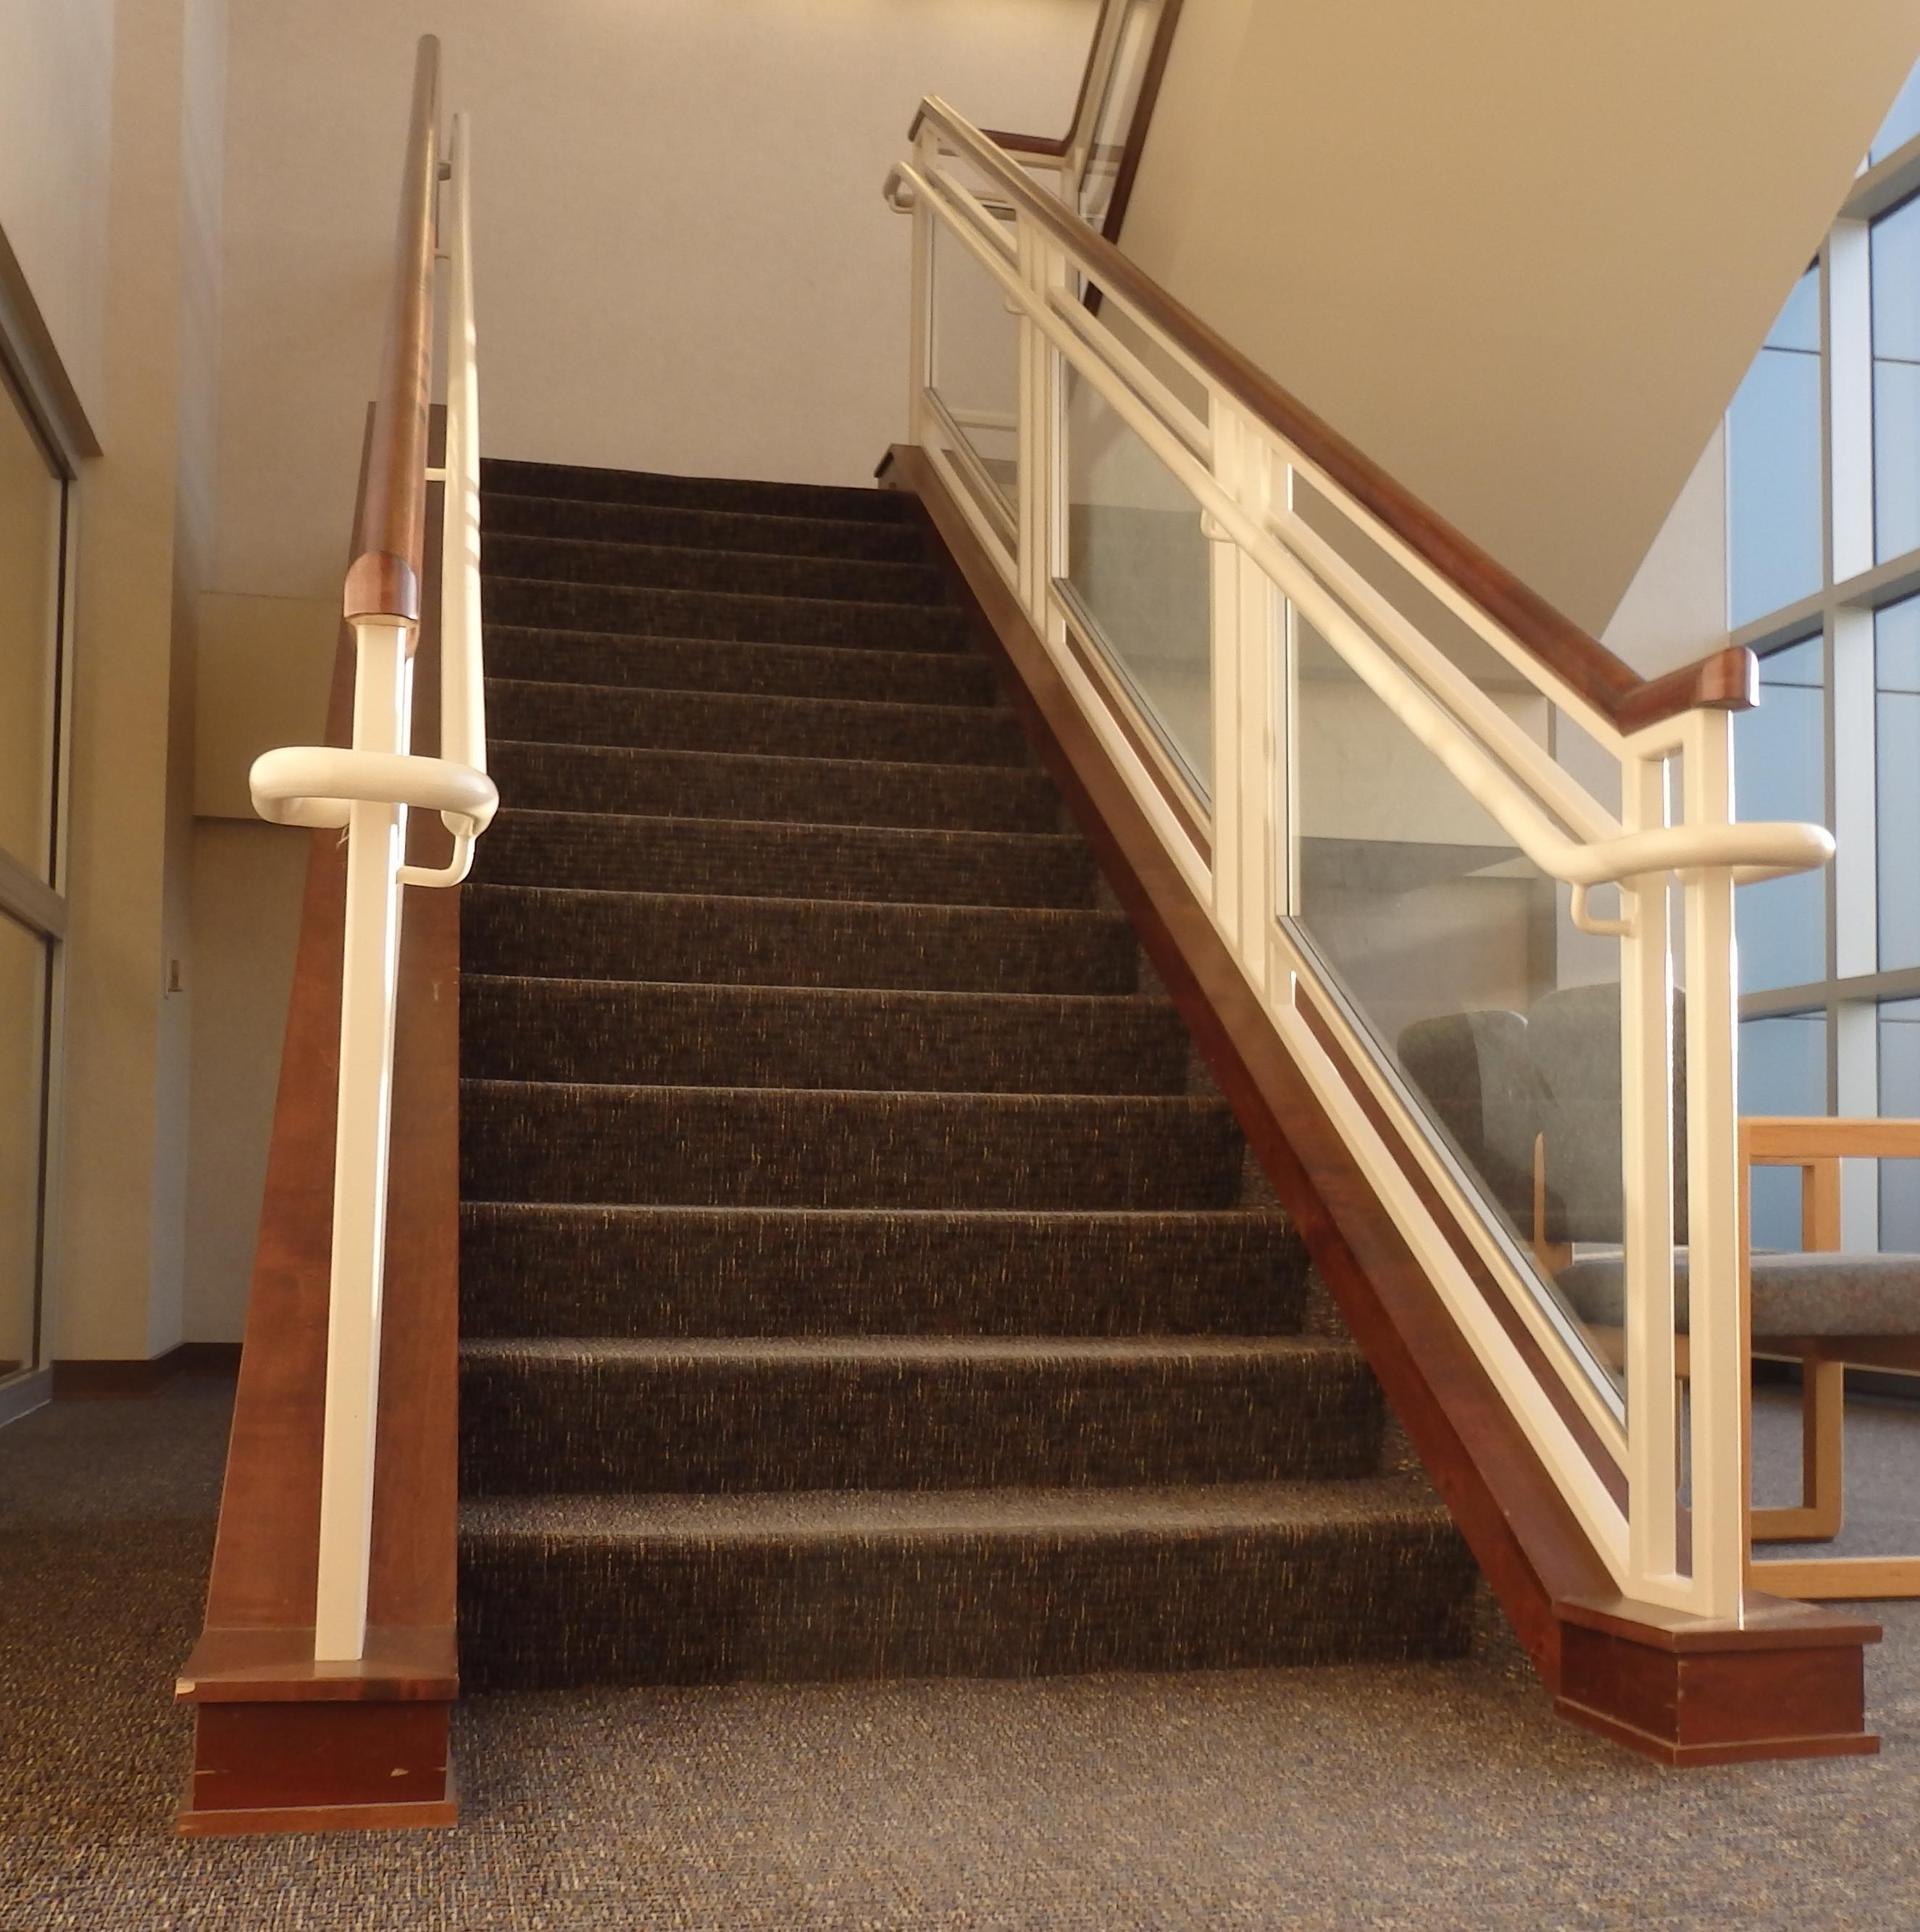stairs_up: (455, 425, 1451, 1714)
